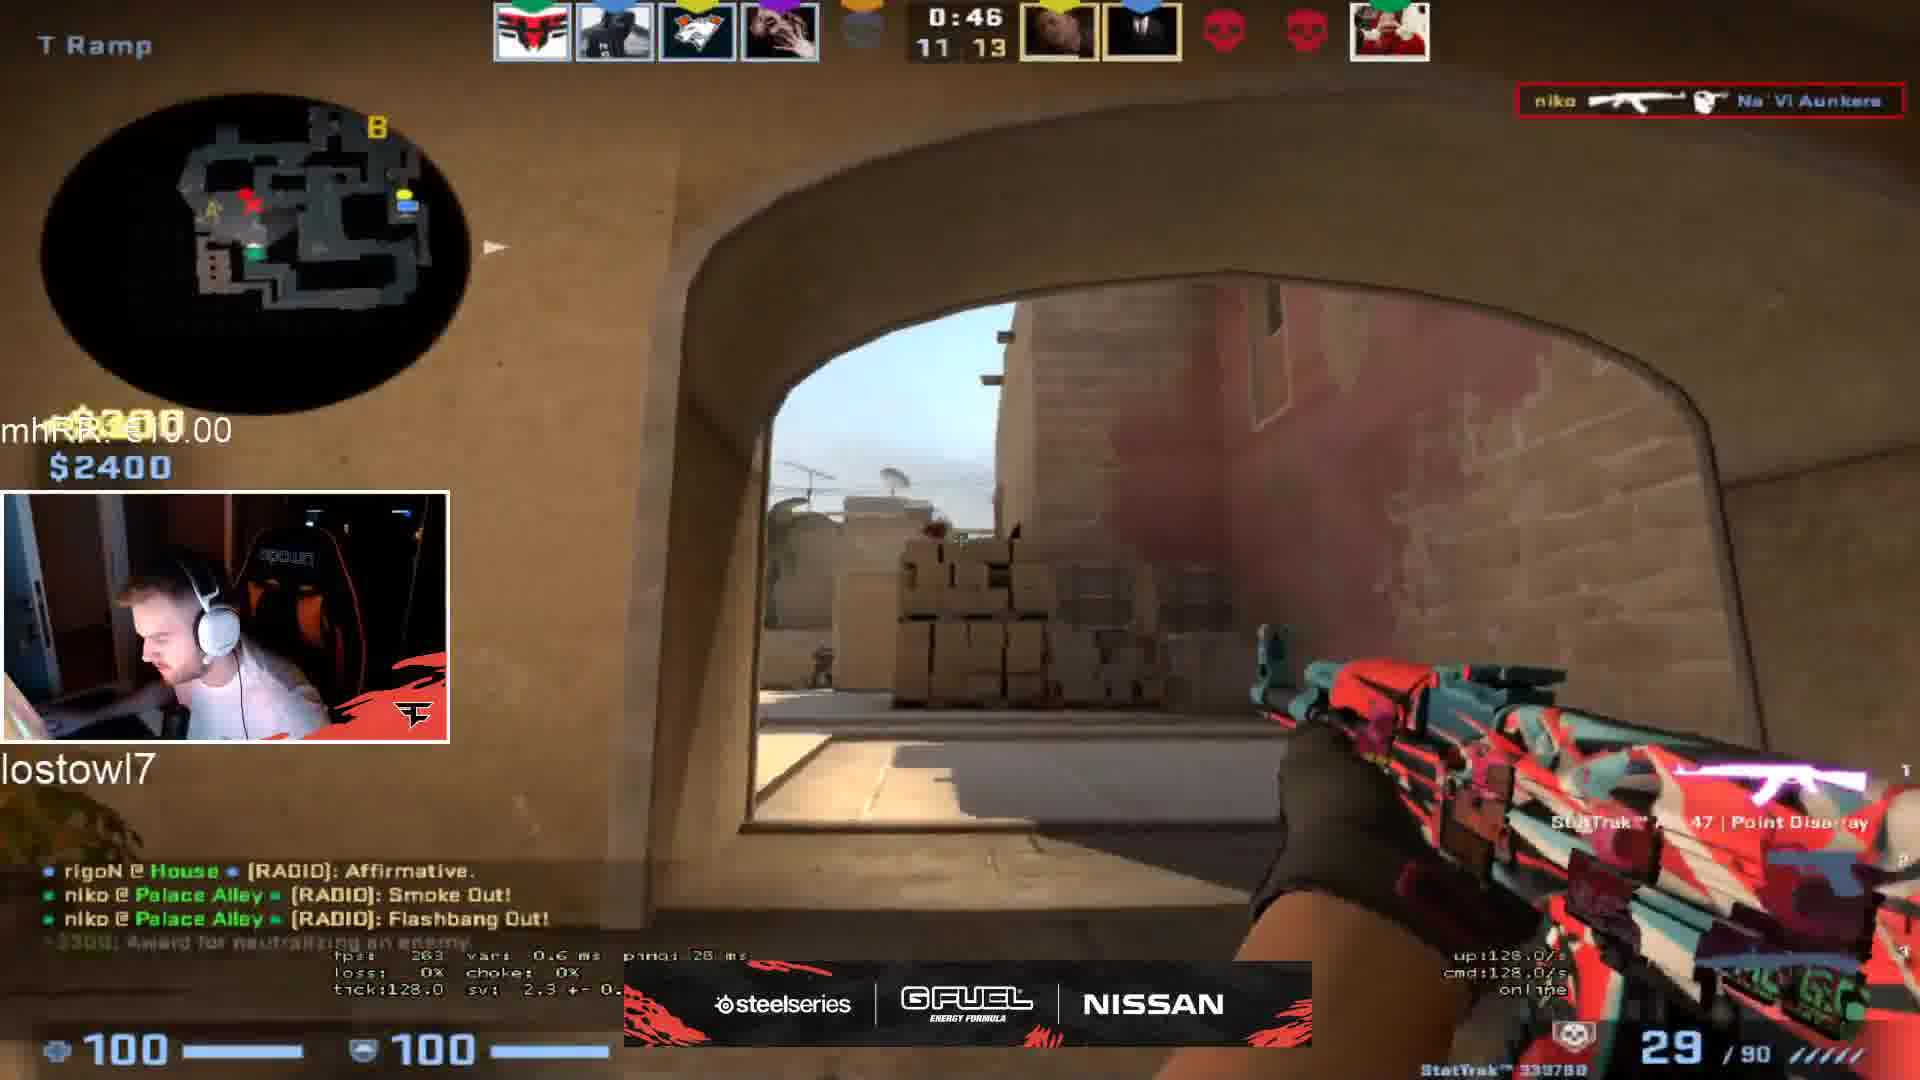enemy: (804, 636, 845, 704)
